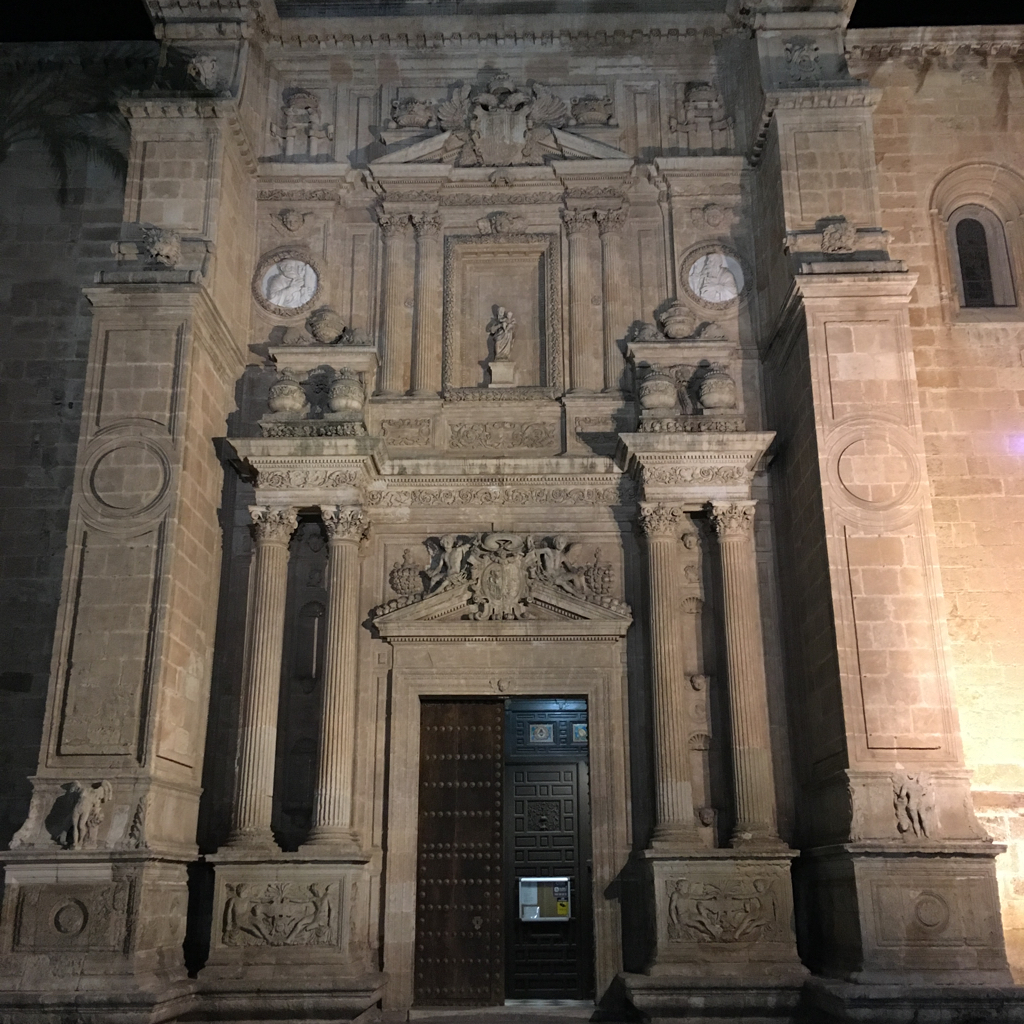fronton-partido: (370, 579, 637, 638), (366, 124, 640, 176)
vano-adintelado: (381, 659, 628, 1015)
